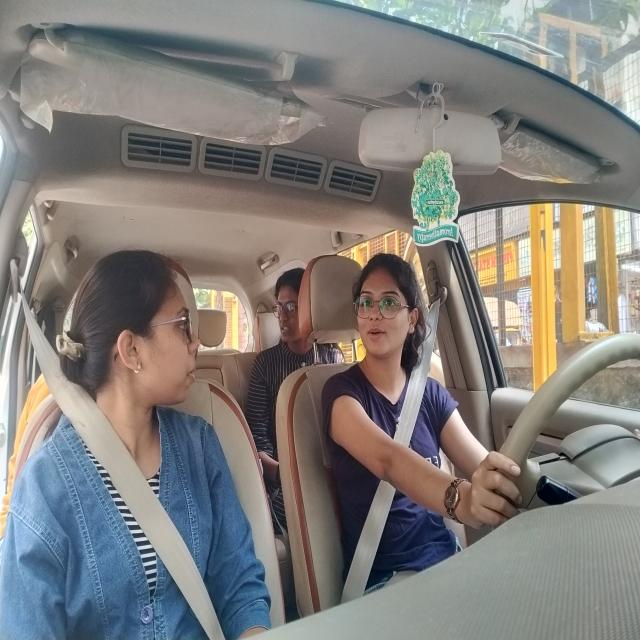person: (80, 247, 202, 420), (354, 252, 426, 374), (277, 268, 304, 352)
talking: (365, 324, 386, 344), (185, 363, 200, 388)
